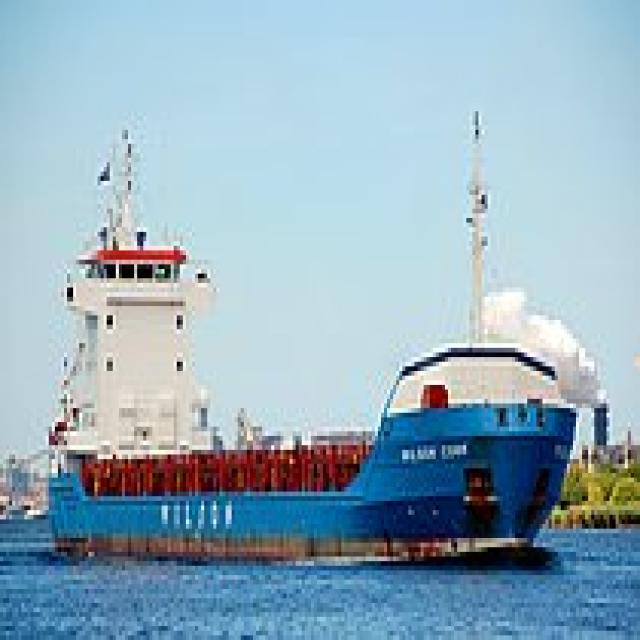Cargo: (40, 93, 585, 566)
